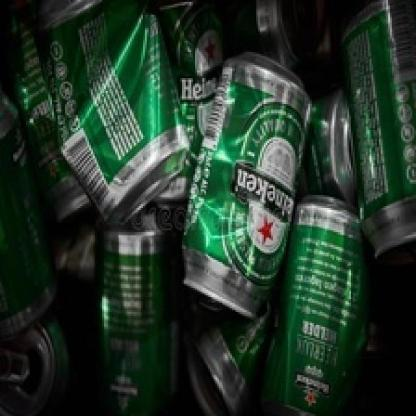Can: (181, 50, 313, 328)
